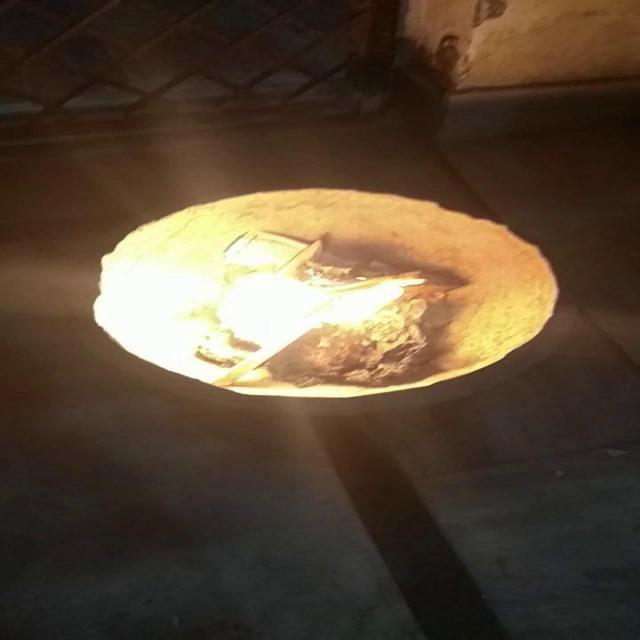fire: (170, 225, 452, 355)
